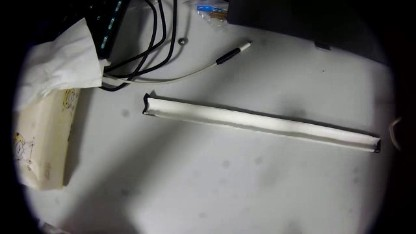gangzhu: (176, 34, 189, 46)
